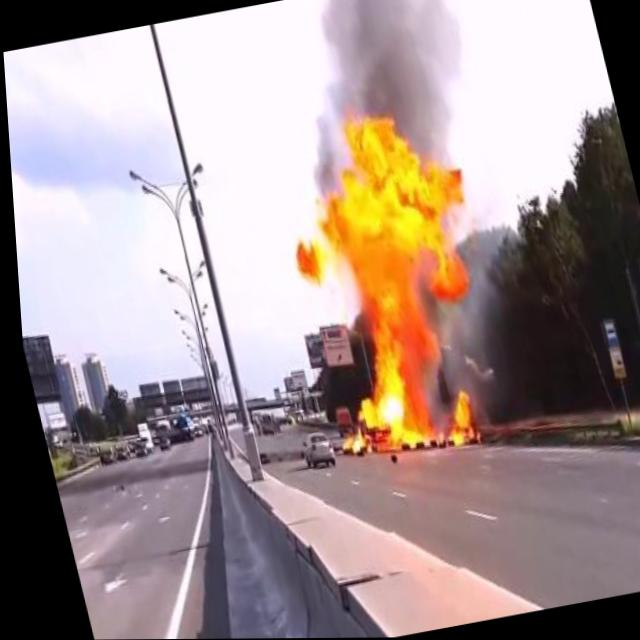fire: (279, 88, 522, 463), (284, 232, 333, 296), (331, 425, 360, 459)
